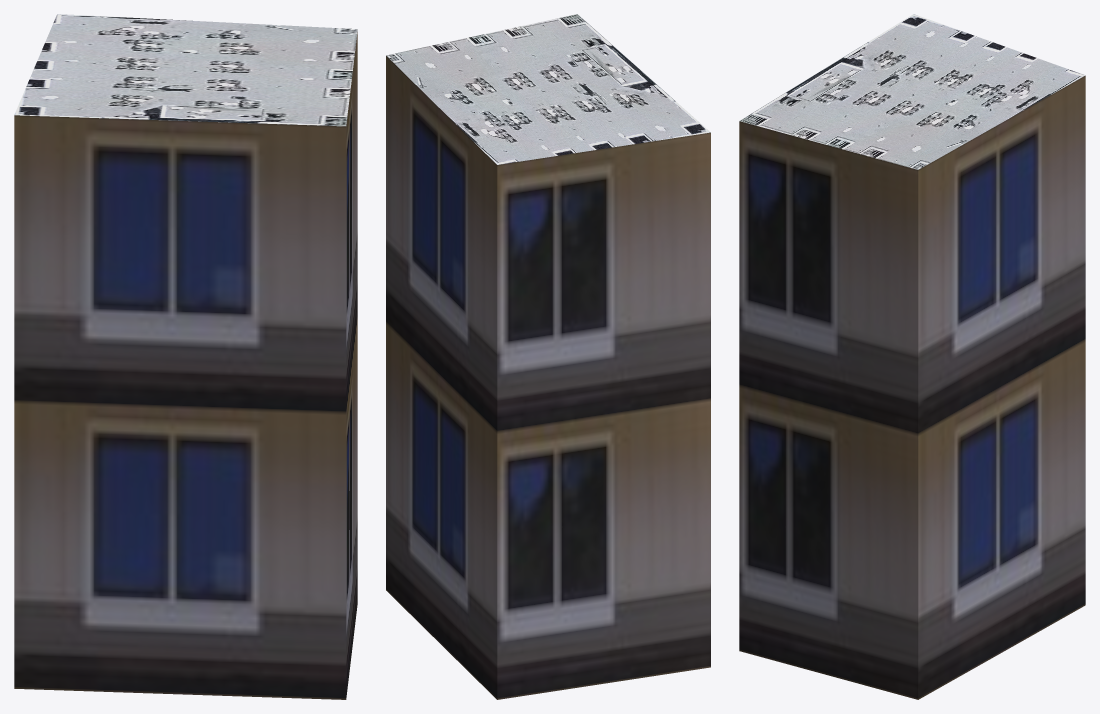
File: ResTex__1227.fbx
3 renders of one model, left to right at view 1: azimuth 30°, elevation 25°; view 2: azimuth 150°, elevation 25°; view 3: azimuth 270°, elevation 25°, orthographic. The views are drawn at different scales.
Parts seen in each view (by area): view 1: CityEngineMaterial_5_m, CityEngineMaterial_4_m; view 2: CityEngineMaterial_5_m, CityEngineMaterial_4_m; view 3: CityEngineMaterial_5_m, CityEngineMaterial_4_m.
Boxes of the visible parts, box(x1,y1,x2,y2) form: CityEngineMaterial_5_m: box(14, 32, 357, 699); CityEngineMaterial_4_m: box(14, 14, 357, 126); CityEngineMaterial_5_m: box(386, 56, 710, 699); CityEngineMaterial_4_m: box(386, 14, 710, 164); CityEngineMaterial_5_m: box(739, 75, 1085, 699); CityEngineMaterial_4_m: box(739, 14, 1085, 169).
Bounding box in the file's own units: 3.79 × 6 × 3.56.
2 materials, 2 textured.
